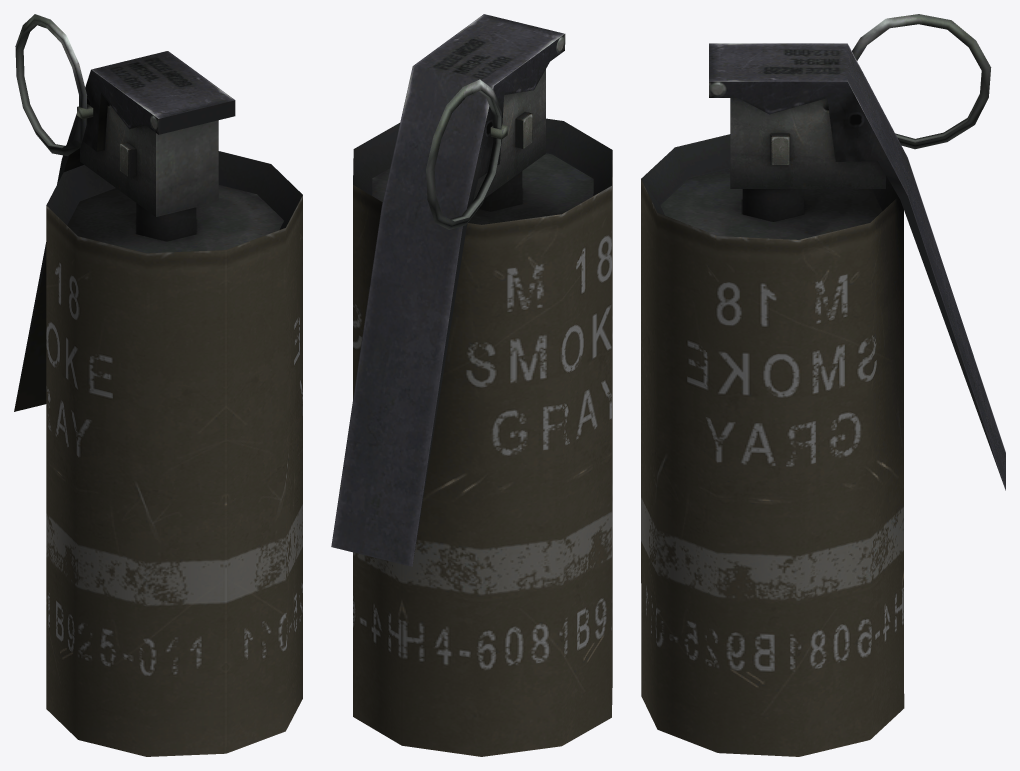
The model's file is cs-weapon-smoke-grenade-counter-strike-source.glb.
3 renders of one model, left to right at view 1: azimuth 30°, elevation 25°; view 2: azimuth 150°, elevation 25°; view 3: azimuth 270°, elevation 25°, orthographic. The views are drawn at different scales.
Bounding box in the file's own units: 2.56 × 7.22 × 3.61.
1 material, 1 textured.
